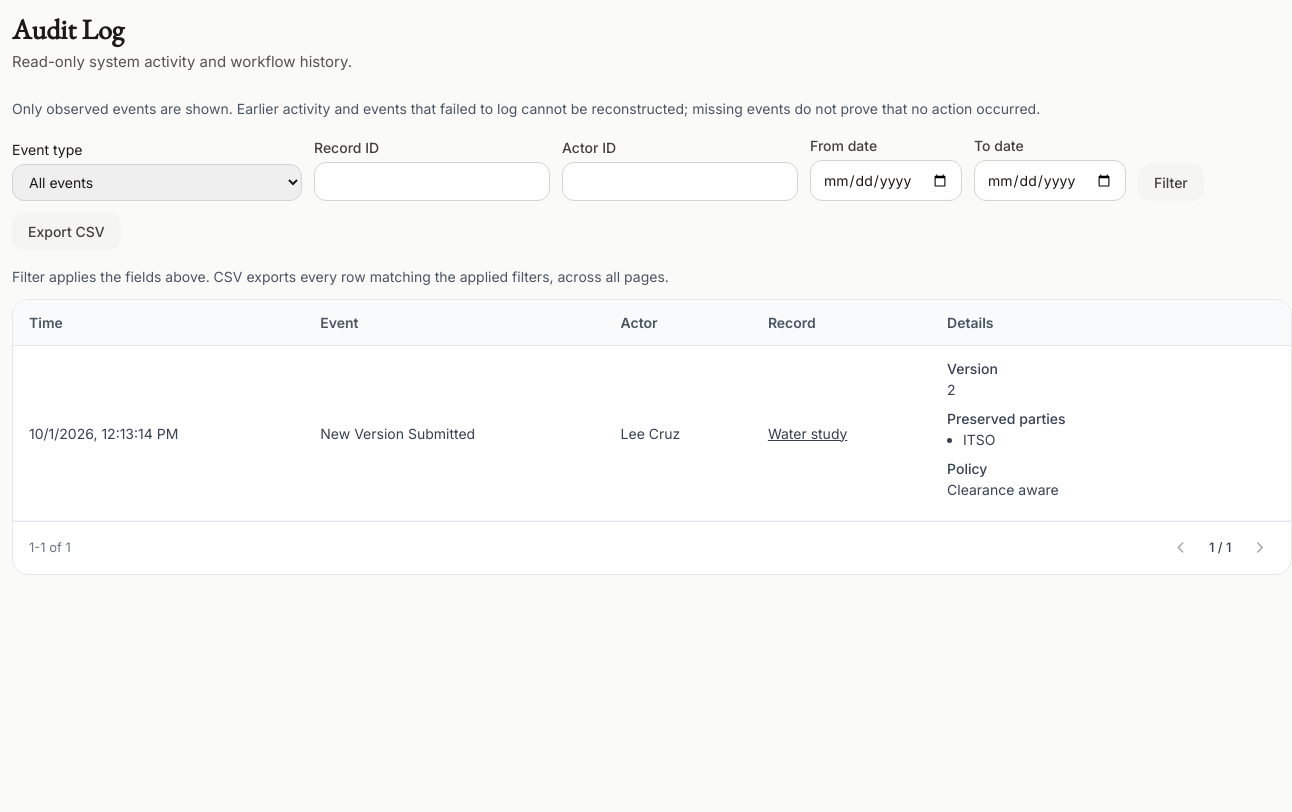
applies filters on the first page and exports all matching rows with the same filters
Expected: the text "Lee Cruz" is shown, top-left (605, 346), bottom-right (752, 520)
Select "New Version Submitted" in the dropdown labelled "Event type": (157, 182) top-left (12, 164), bottom-right (302, 201)
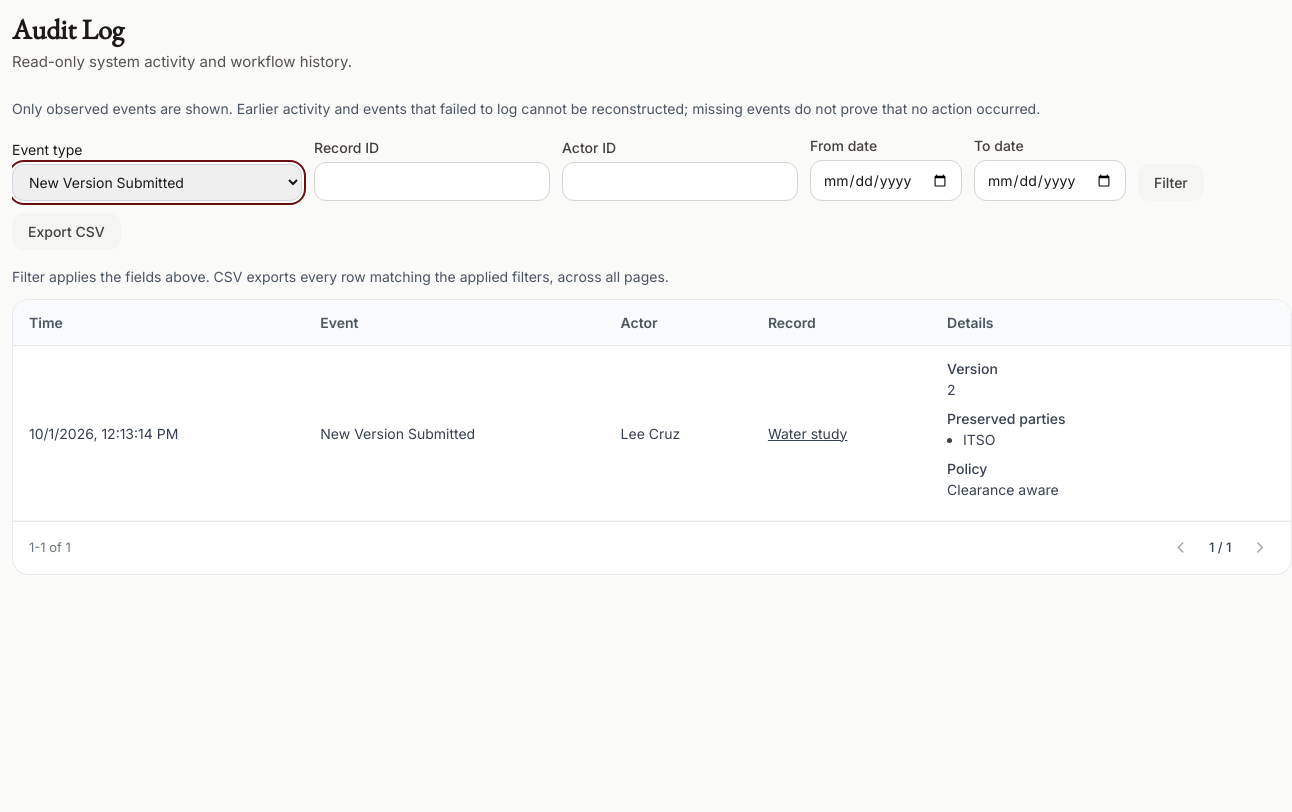
In the number field labelled "Record ID": (432, 182) top-left (314, 162), bottom-right (550, 201), type "3"
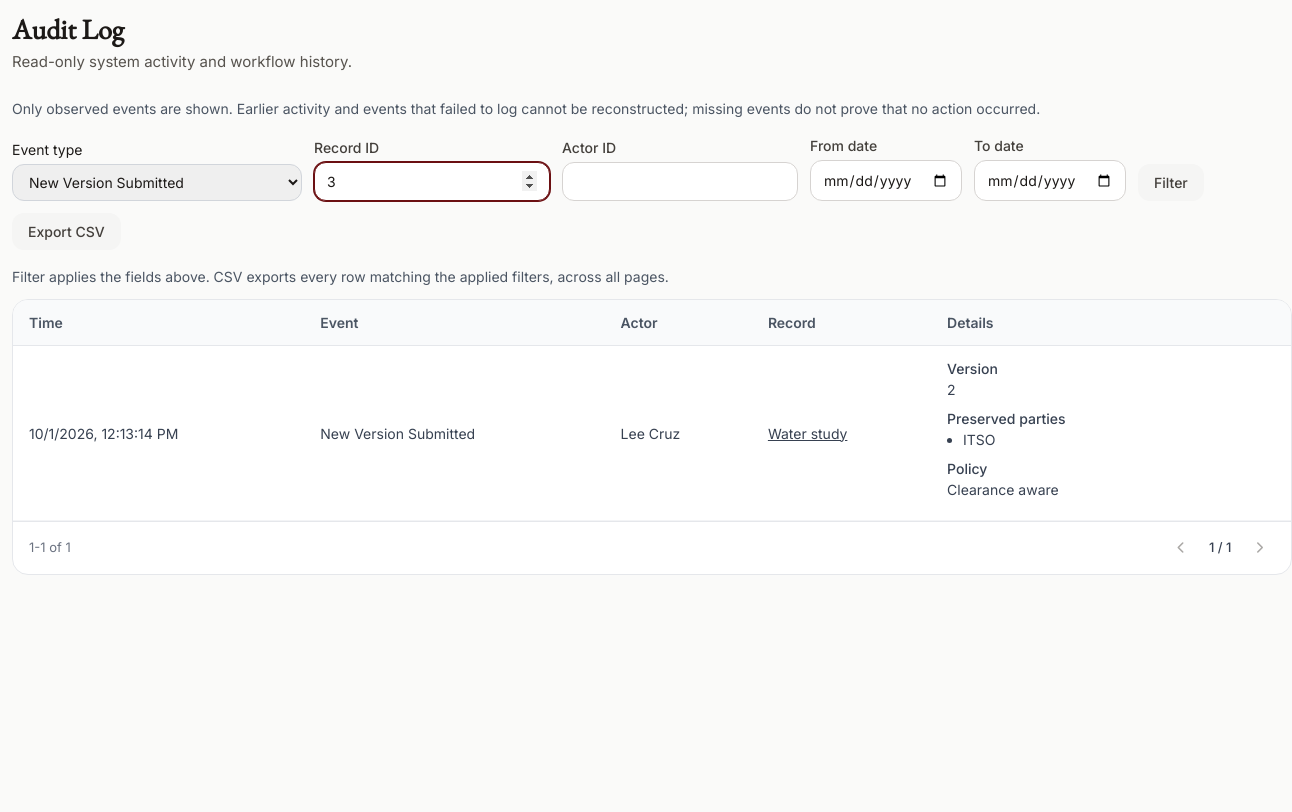
In the date field labelled "From date": (886, 180) top-left (810, 160), bottom-right (962, 201), type "2026-10-01"
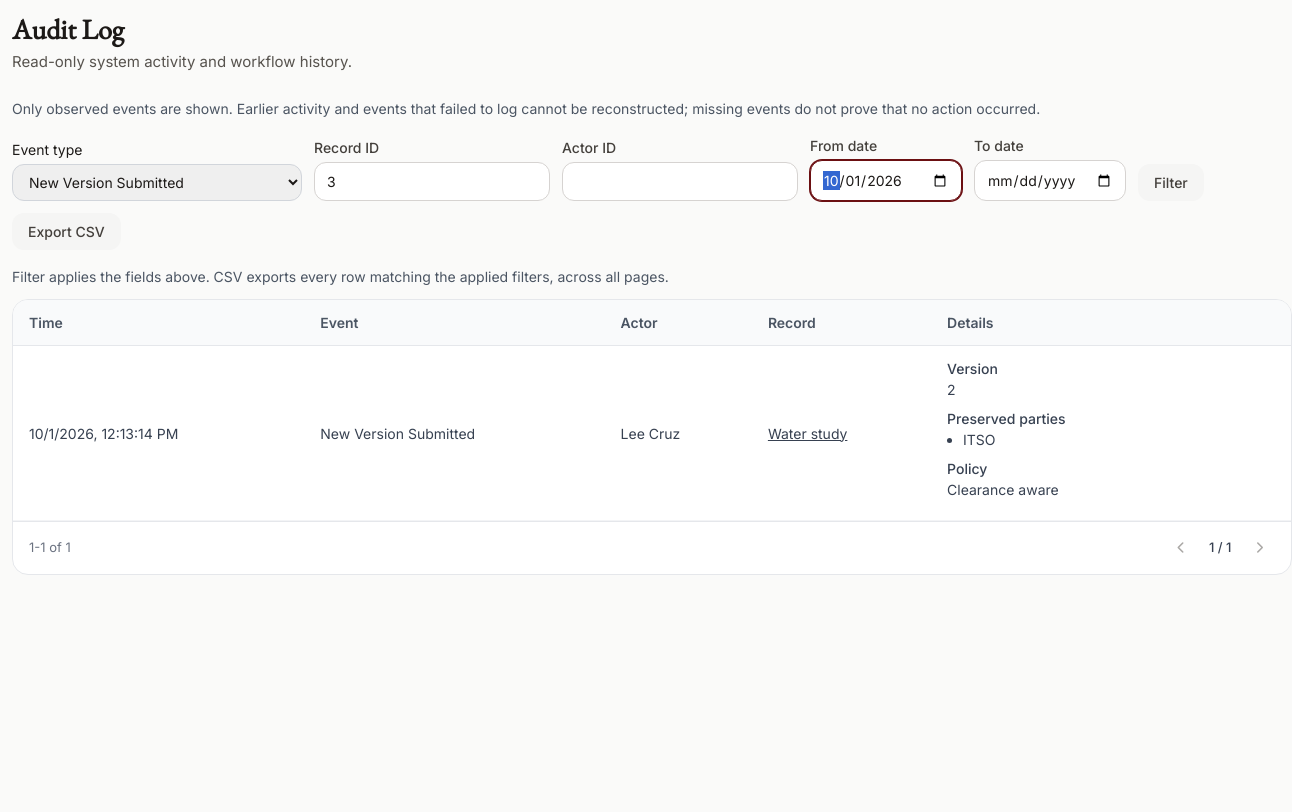
In the date field labelled "To date": (1050, 180) top-left (974, 160), bottom-right (1126, 201), type "2026-10-30"
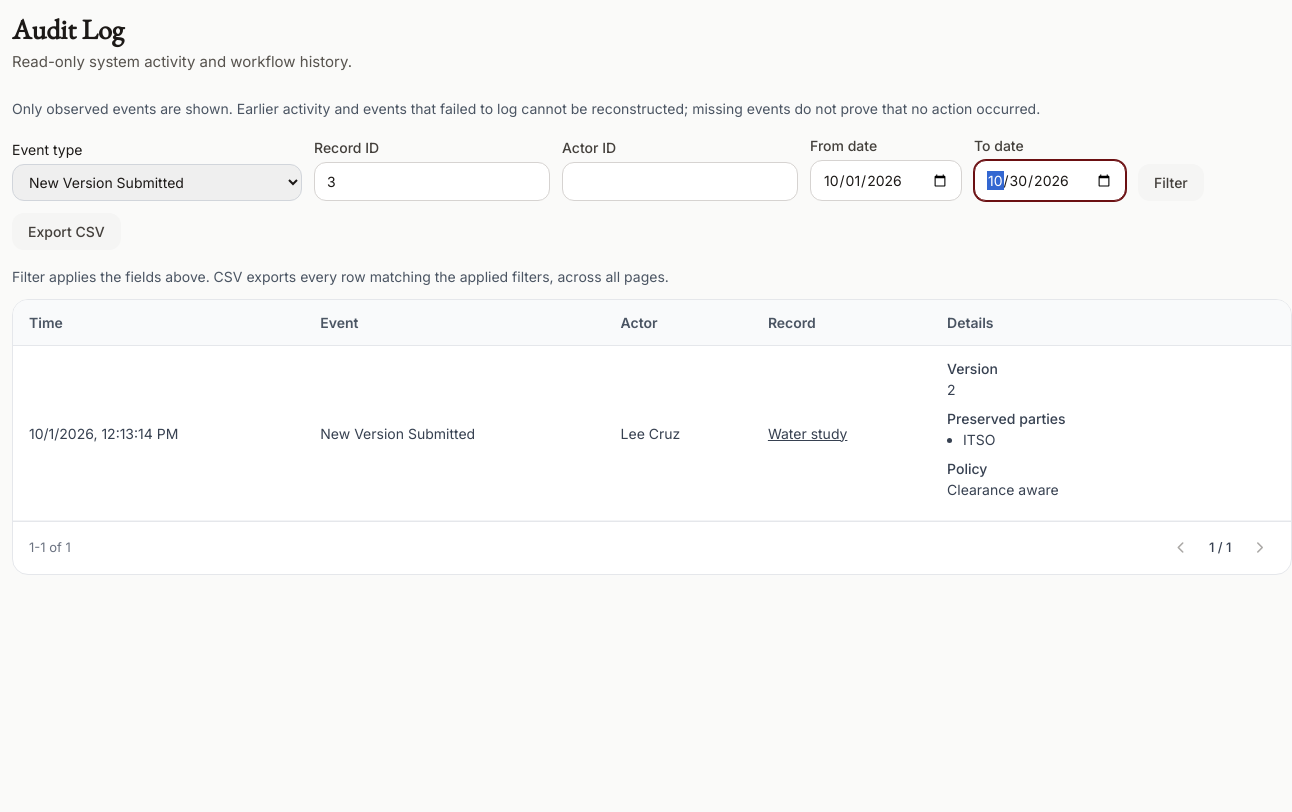
Click the button "Filter": (1171, 182) top-left (1138, 164), bottom-right (1204, 201)
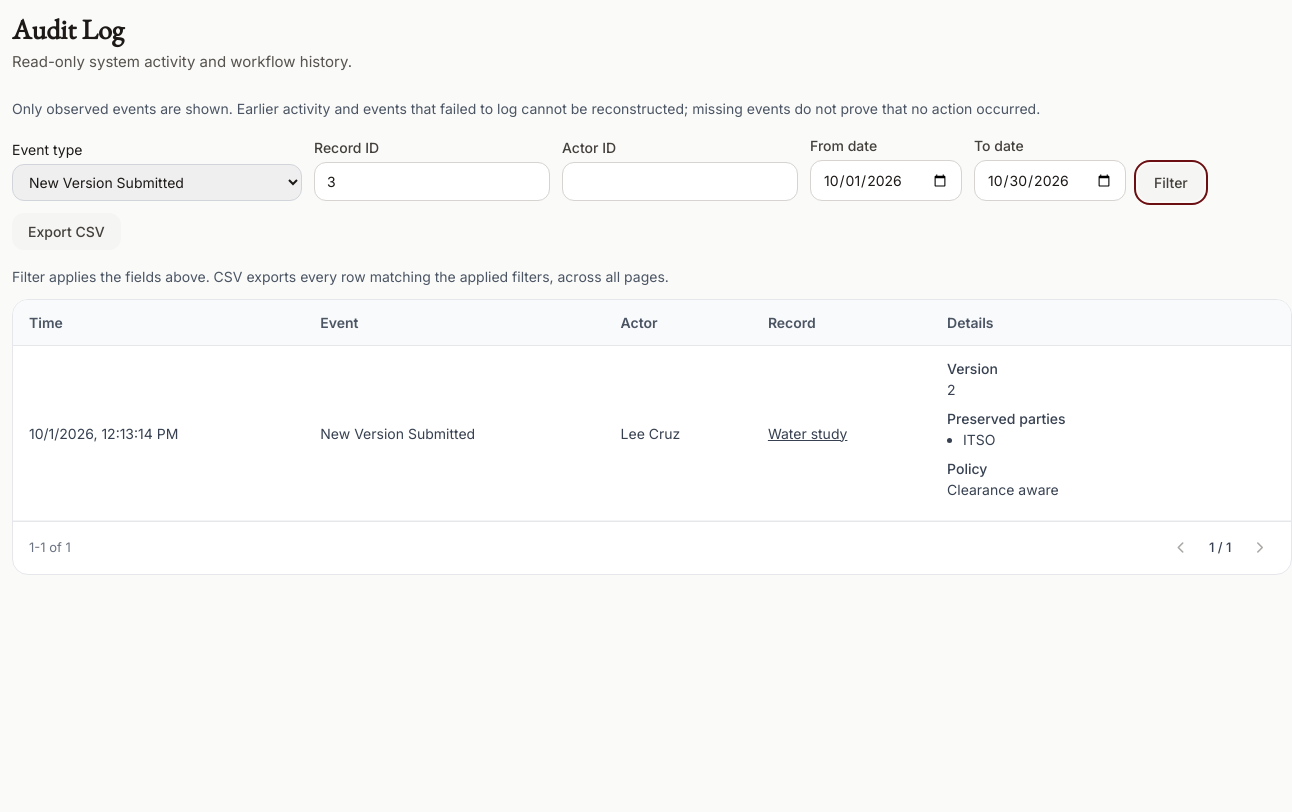
Click the button "Export CSV": (66, 232) top-left (12, 213), bottom-right (121, 250)
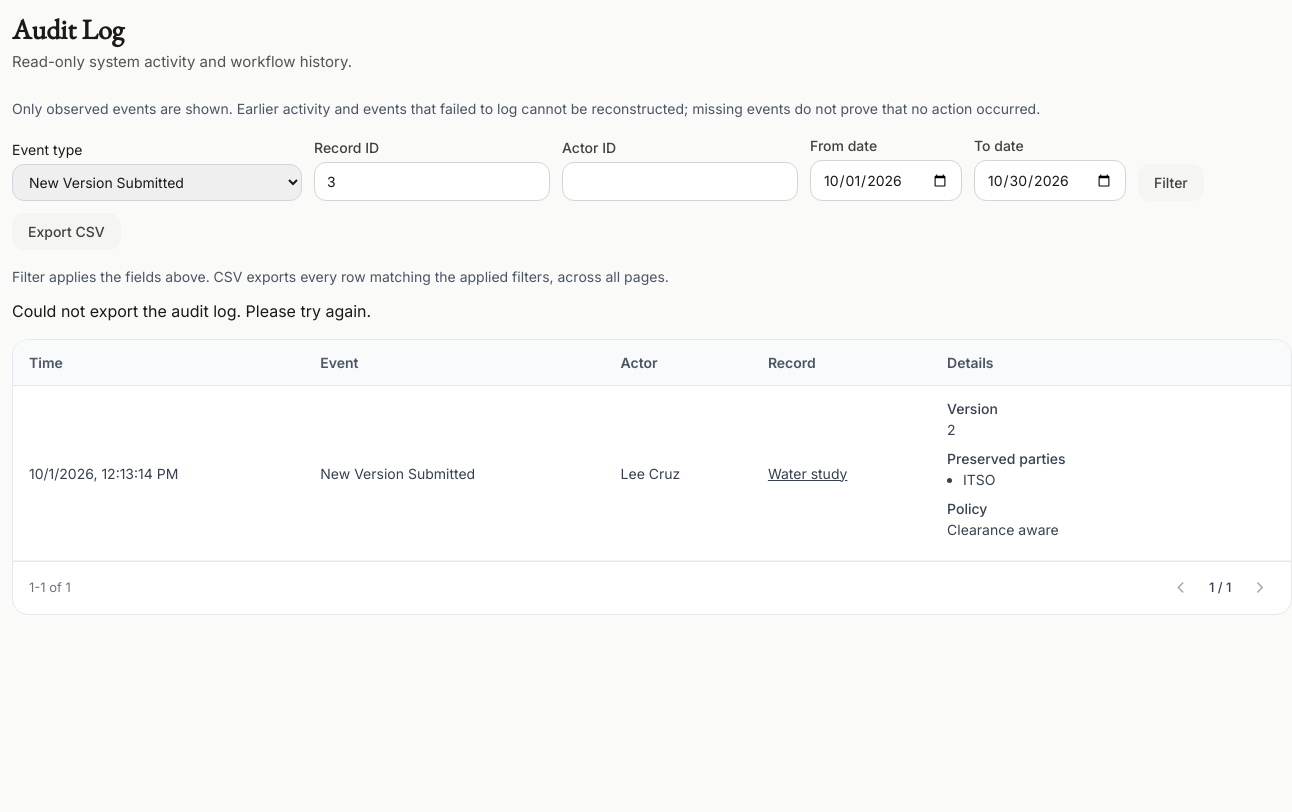
Expected: the message shows "Could not export", top-left (12, 301), bottom-right (371, 321)
